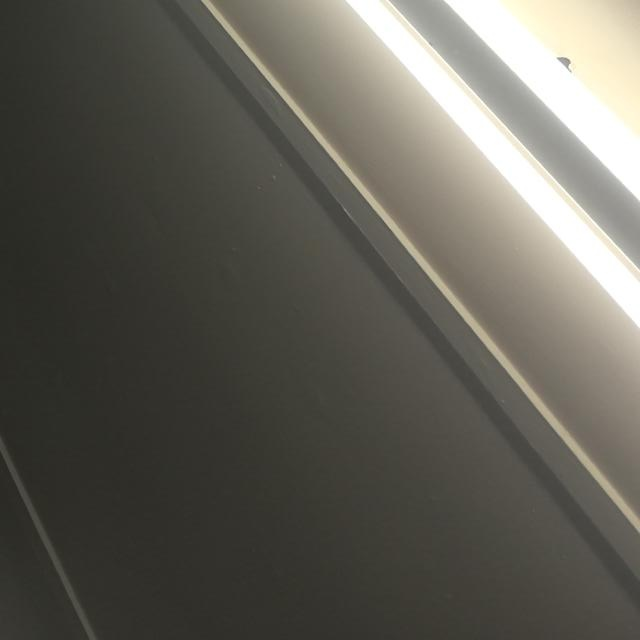fluorescent tube: (139, 0, 640, 337), (184, 0, 640, 197)
